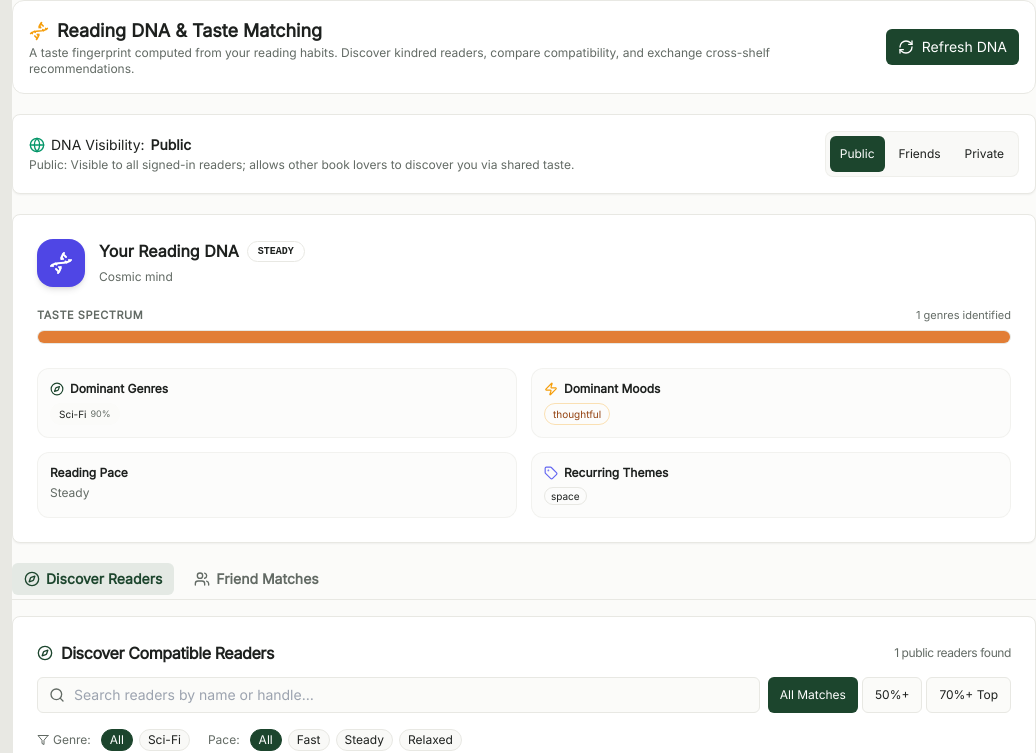
ReadingDnaPanel › allows switching between Discover Readers and Friend Matches tabs
The width and height of the screenshot is (1036, 753).
Check: the text "Discover Compatible Readers" is shown, box [37,640,274,664]
Click Friend Matches tab
Click the button "Friend Matches".
click(256, 578)  # box [182,562,331,594]
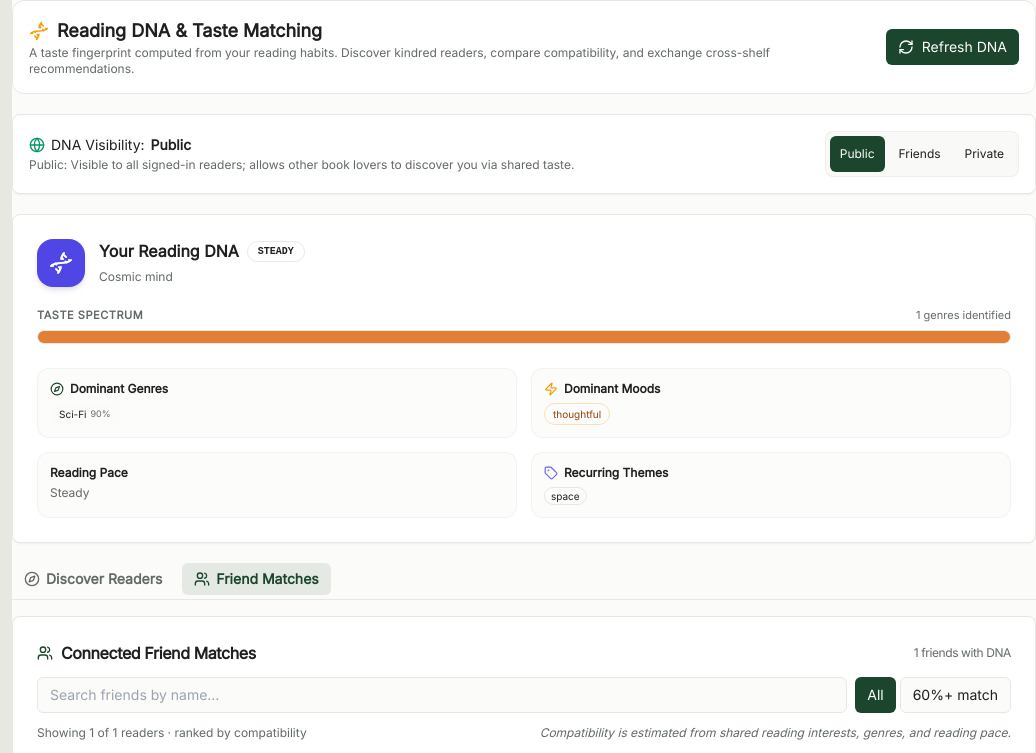
Check: the text "Compatibility is estimated from shared reading interests, genres, and reading pace" is shown, box [540,724,1011,740]
